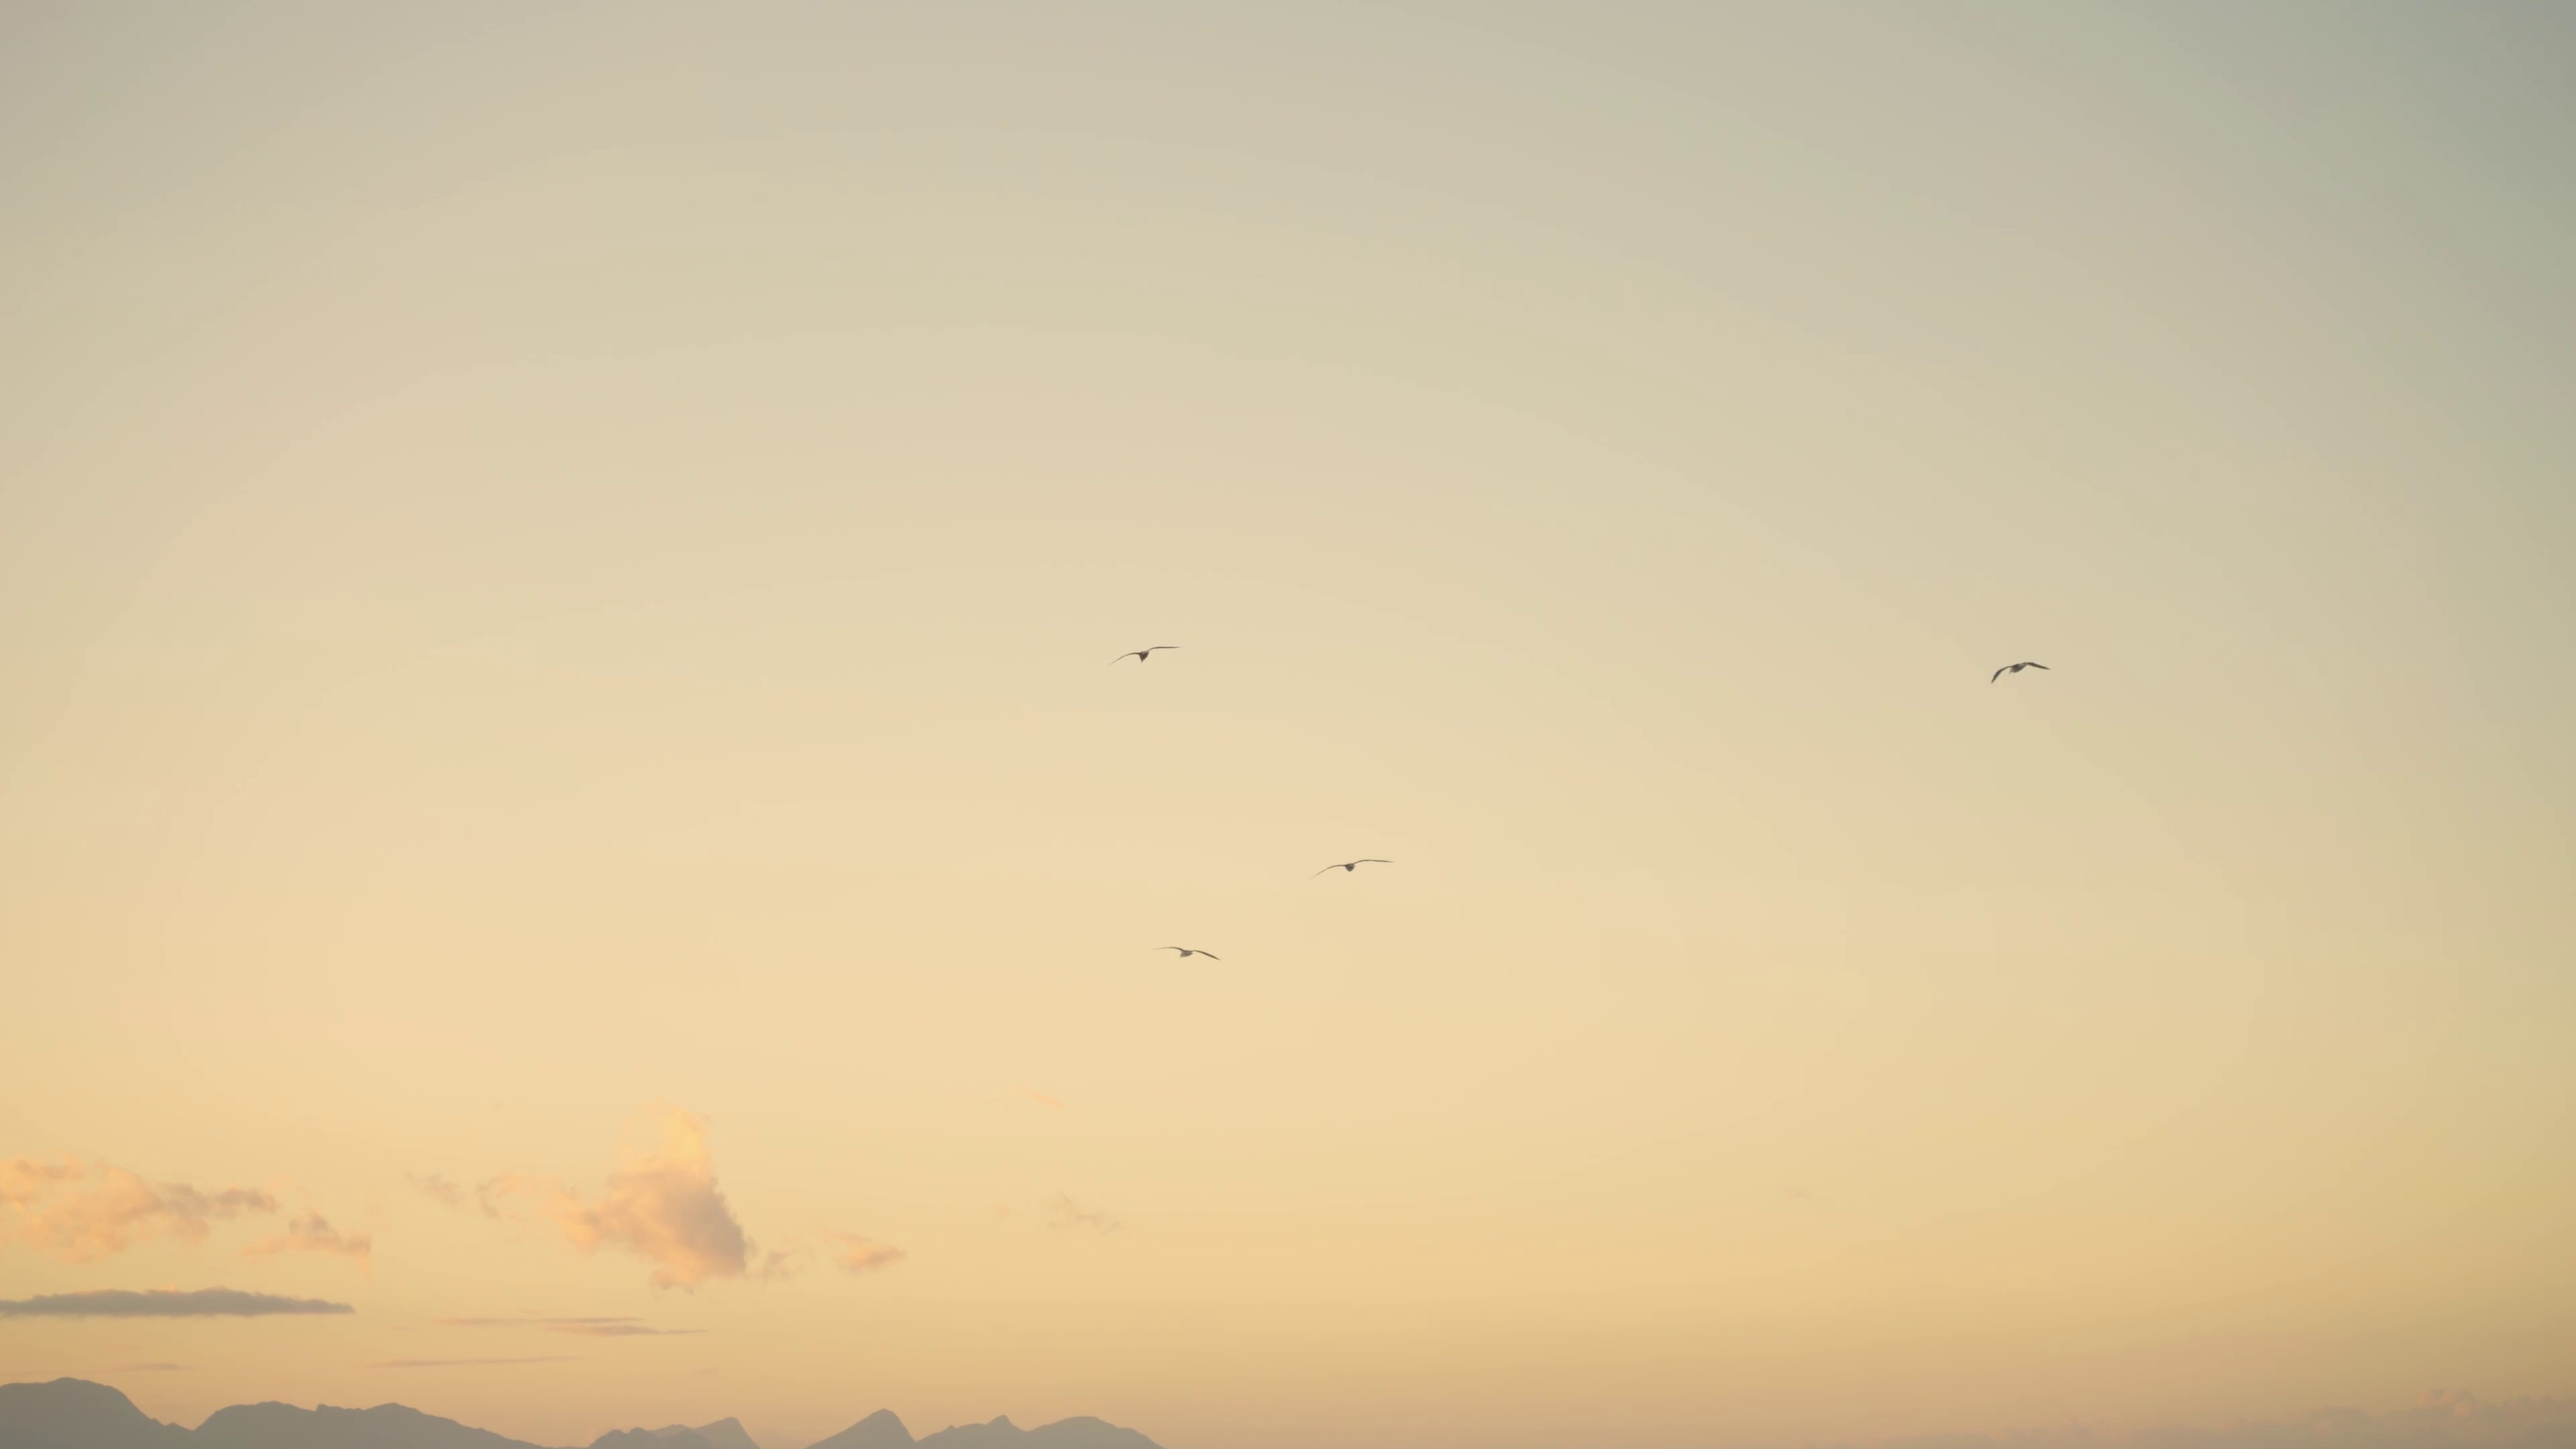bird: (1316, 856, 1387, 876), (1990, 660, 2049, 683), (1111, 644, 1178, 663), (1154, 943, 1219, 959)
